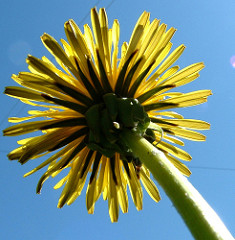dandelion: (3, 4, 218, 227)
